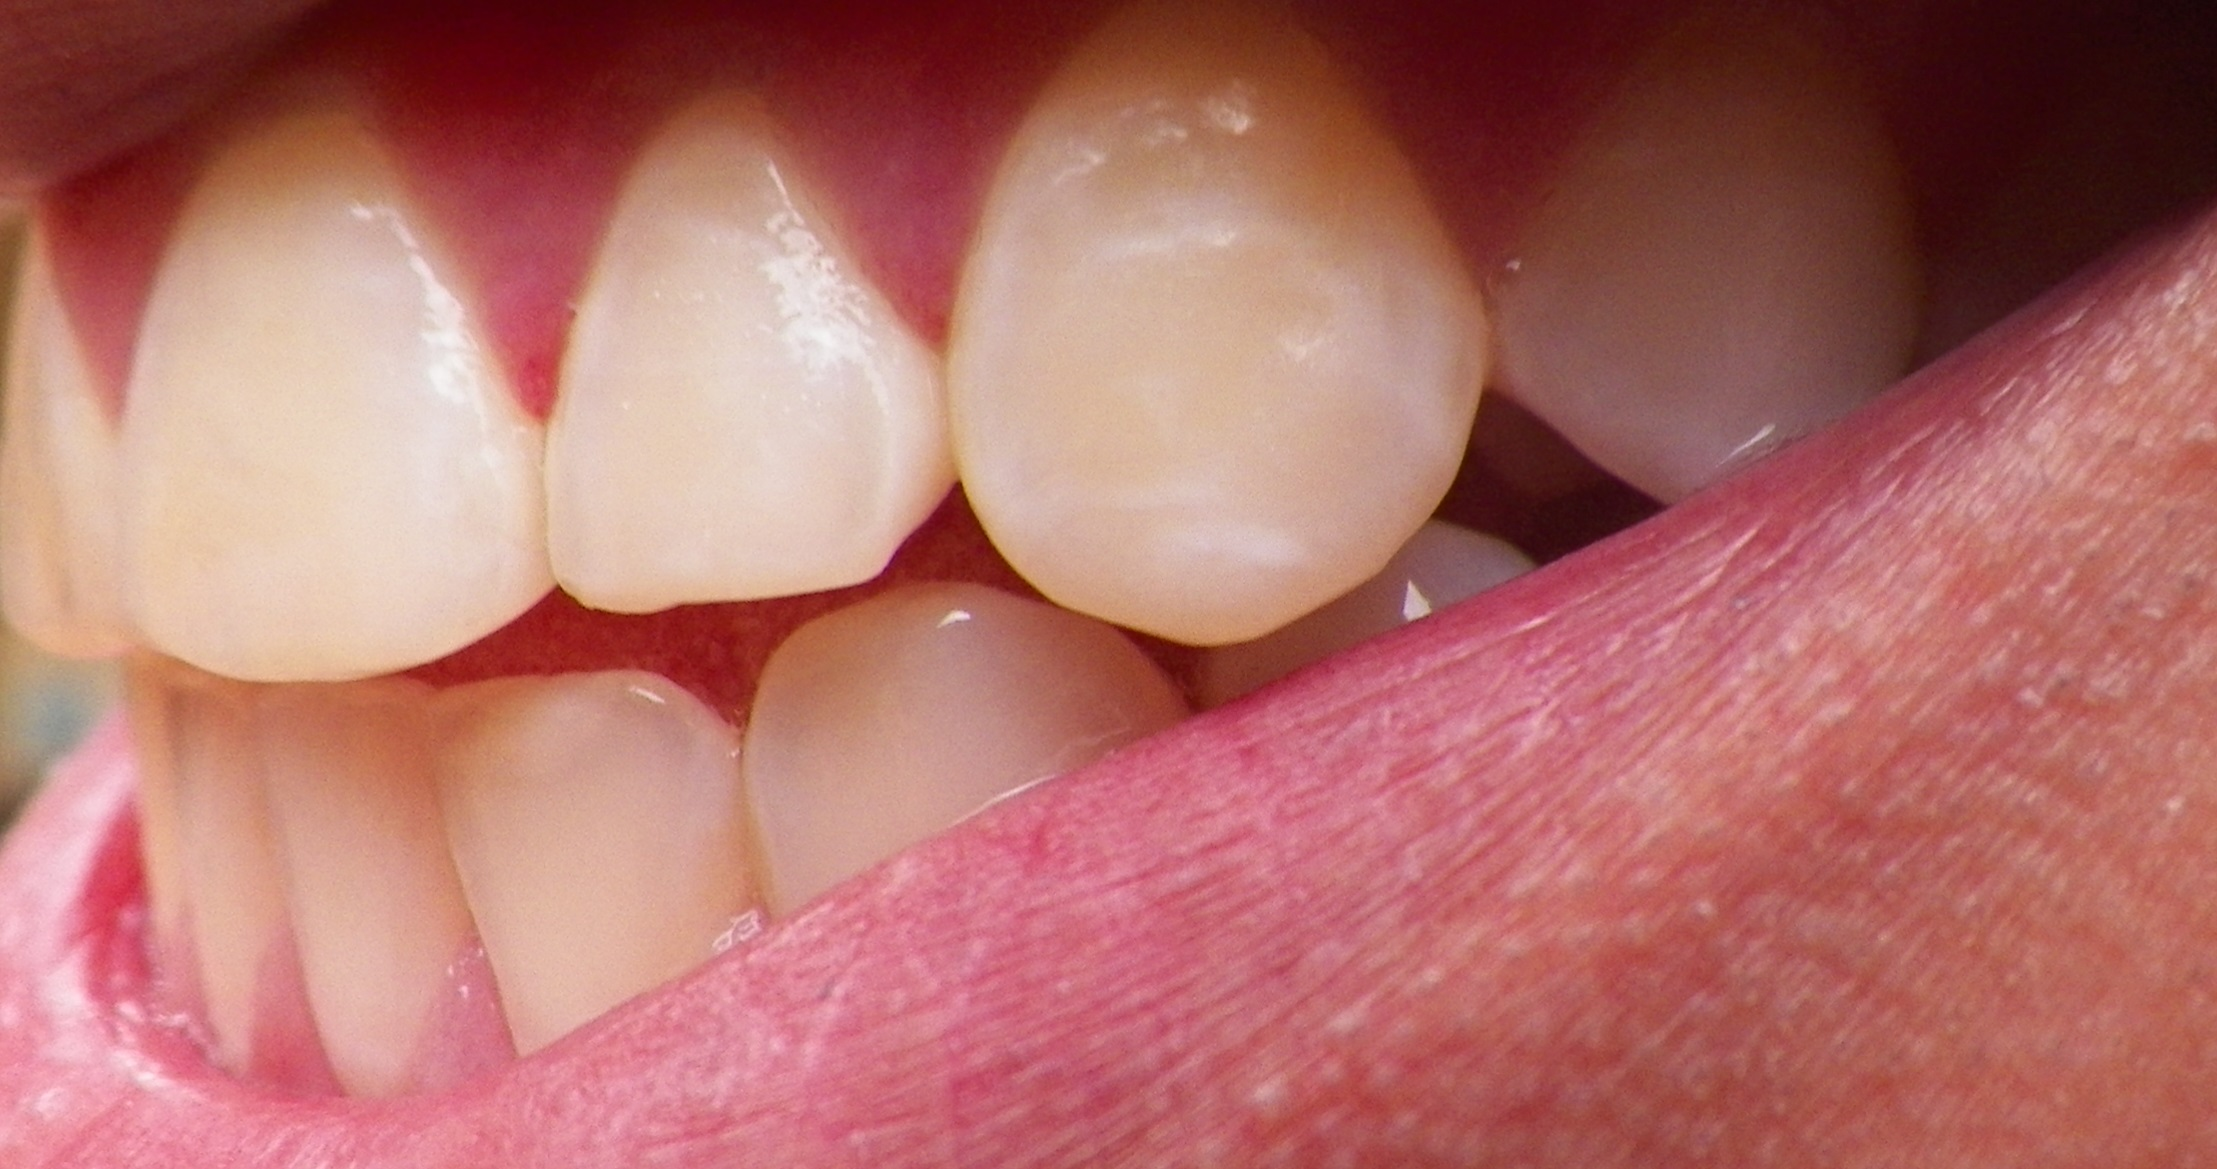boca: (4, 44, 1934, 1075)
